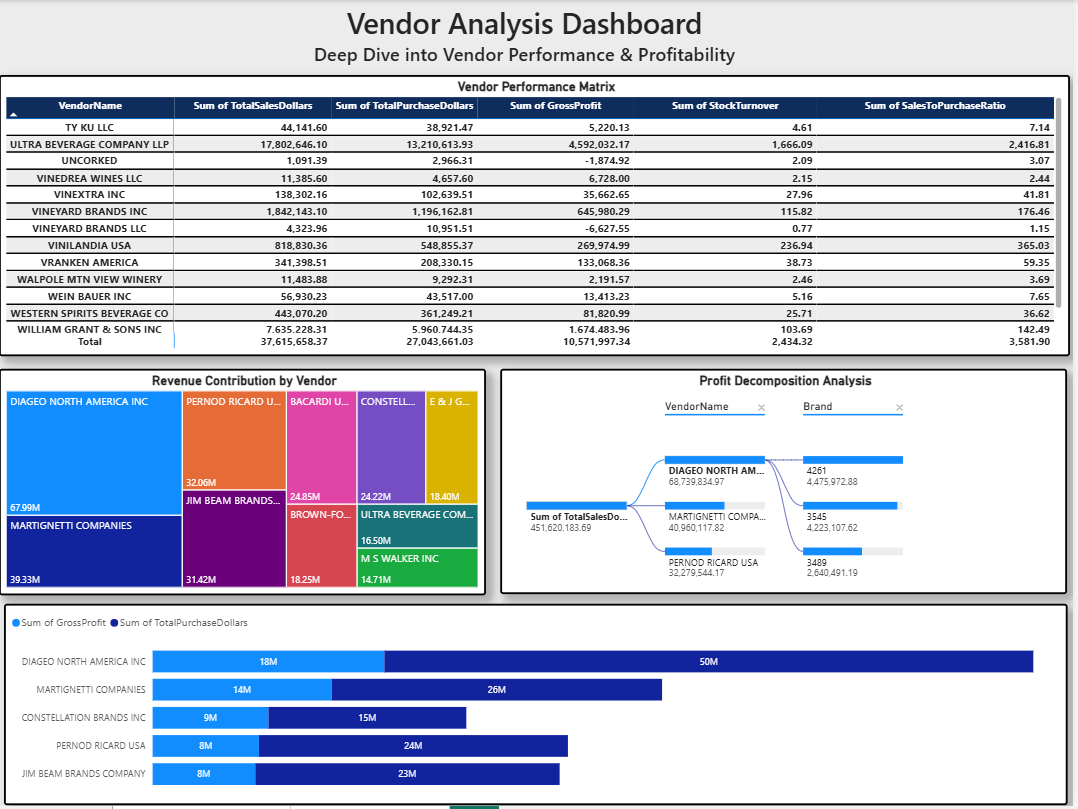

Layout of this report page (visuals, bound fields, positions):
{"tool":"powerbi","page":{"name":"Vendor Analysis","canvas":[1400,1050],"ordinal":1},"visuals":[{"type":"textbox","box":[300,0,770,115],"z":1000},{"type":"pivotTable","title":"Vendor Performance Matrix","fields":{"Rows":["Vendor_sales_summary.VendorName"],"Values":["Sum(Vendor_sales_summary.TotalSalesDollars)","Sum(Vendor_sales_summary.TotalPurchaseDollars)","Sum(Vendor_sales_summary.GrossProfit)","Sum(Vendor_sales_summary.StockTurnover)","Sum(Vendor_sales_summary.SalesToPurchaseRatio)"]},"box":[0,97.7,1395.6,366.4],"z":2000},{"type":"treemap","title":"Revenue Contribution by Vendor","fields":{"Group":["vendor_performance.VendorName"],"Values":["Sum(vendor_performance.TotalSalesDollars)"]},"box":[0,480.4,634.6,295.1],"z":3000},{"type":"decompositionTreeVisual","title":"Profit Decomposition Analysis","fields":{"Analyze":["Sum(Vendor_sales_summary.TotalSalesDollars)"],"ExplainBy":["Vendor_sales_summary.VendorName","Vendor_sales_summary.Brand"]},"box":[653,480.4,738.7,293.4],"z":4000},{"type":"barChart","fields":{"Category":["vendor_performance.VendorName"],"Y":["Sum(vendor_performance.GrossProfit)","Sum(vendor_performance.TotalPurchaseDollars)"]},"box":[6.5,786.5,1385.2,262.7],"z":5000}]}

Visuals, with their boxes in screenshot pixels (x1, y1, x2, y2), scaled from the page's 1400x1050 canvas onto the 1078x809 screenshot:
textbox: (231,0,824,89)
"Vendor Performance Matrix" pivotTable: (0,75,1075,358)
"Revenue Contribution by Vendor" treemap: (0,370,489,598)
"Profit Decomposition Analysis" decompositionTreeVisual: (503,370,1072,596)
barChart - vendor_performance.VendorName x Sum(vendor_performance.GrossProfit): (5,606,1072,808)
